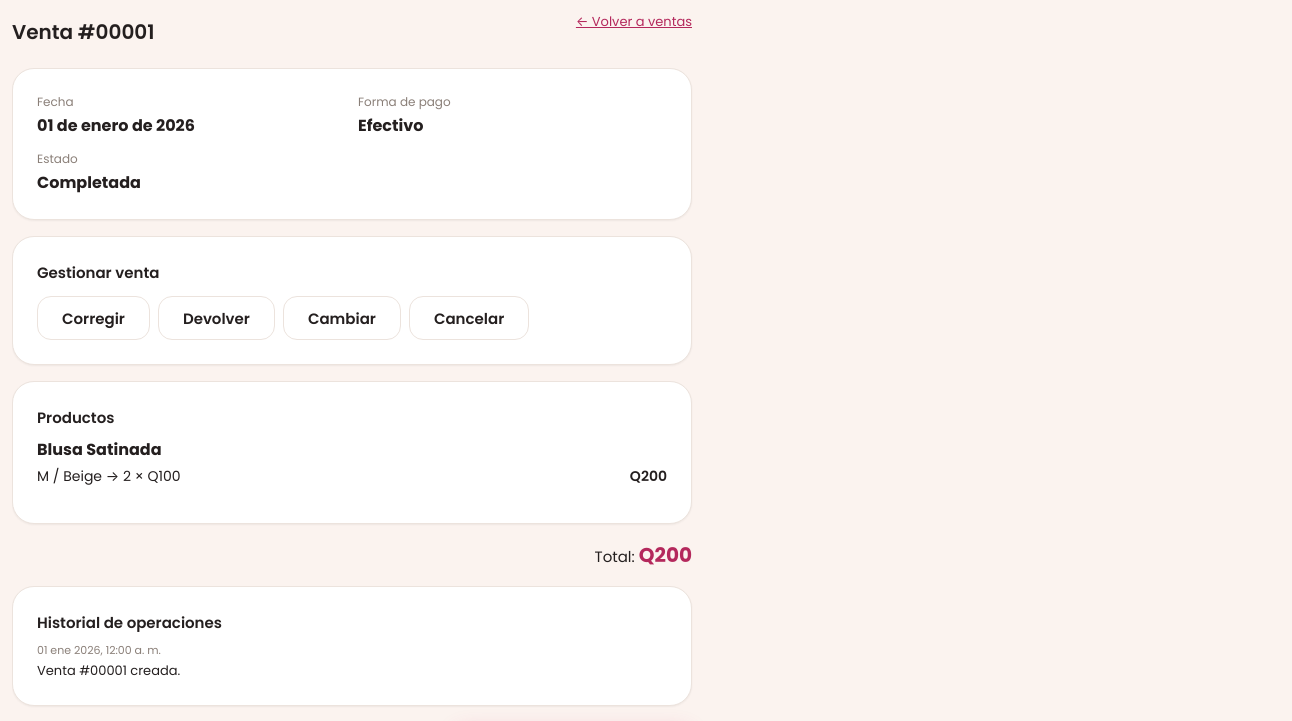
Test case: SaleDetailPage — gestión posventa › registra una devolución parcial
Click the button "Devolver": (216, 318) [158,296,275,340]
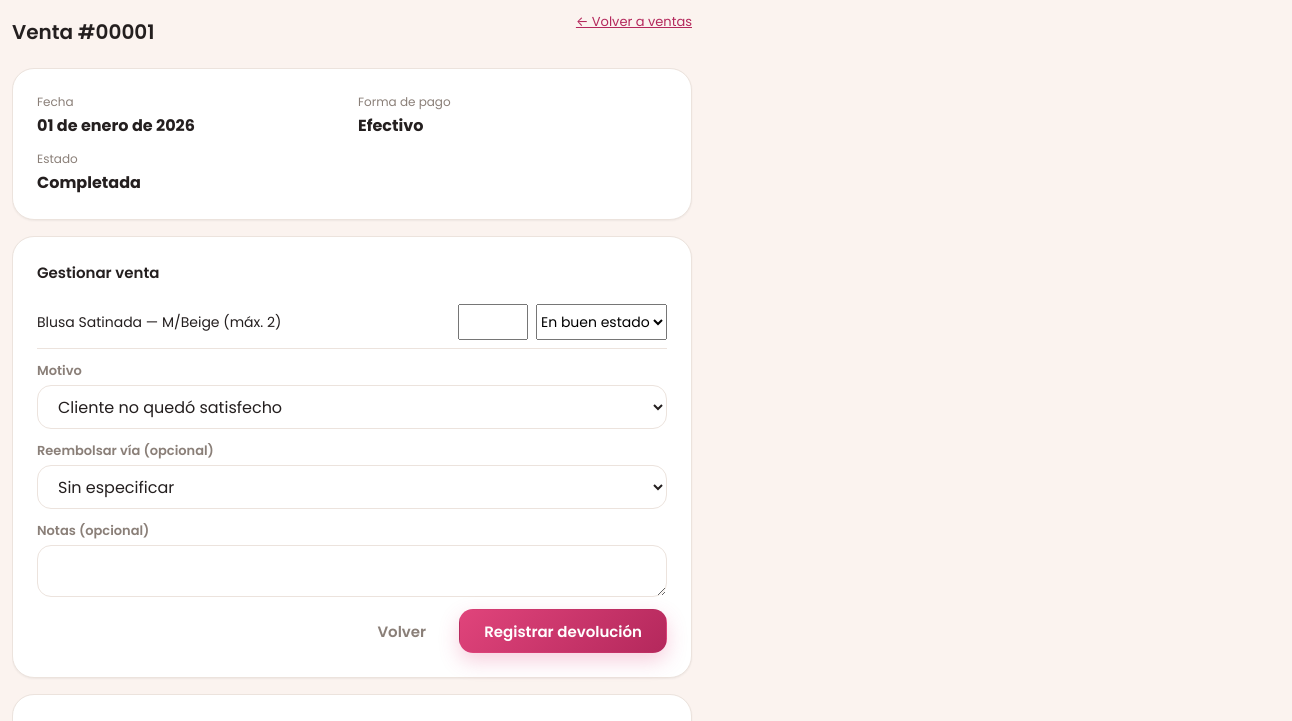
In the number field named "Cantidad a devolver": (493, 322) [458,304,528,340], type "1"
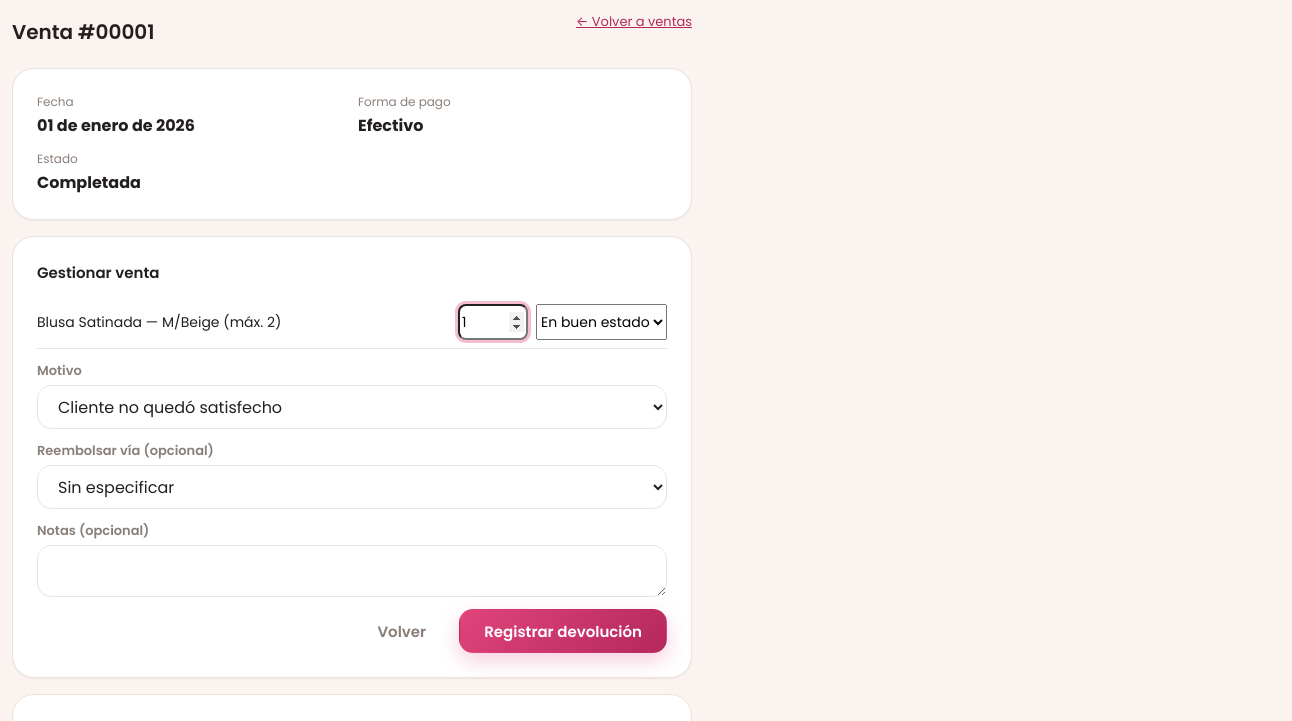
Click the button "Registrar devolución": (563, 631) [459,609,667,653]
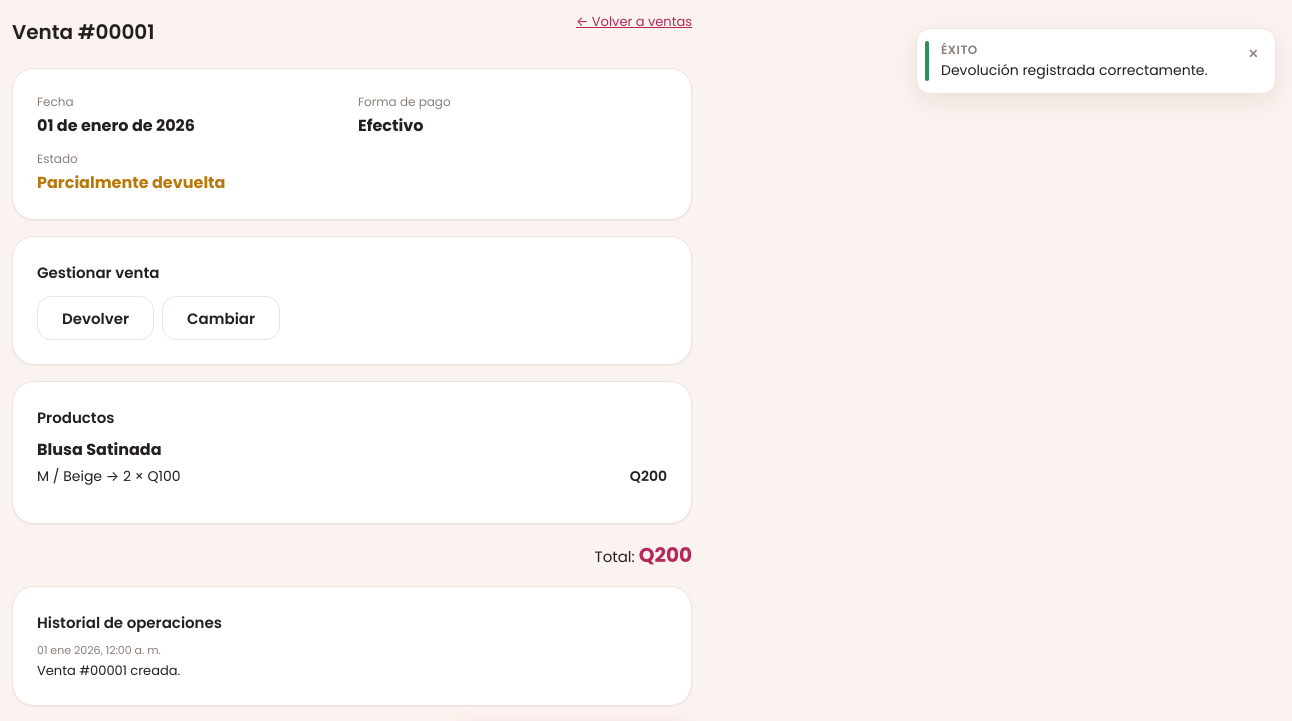
Expected: the text "Devolución registrada correctamente." is shown, [941,61,1231,81]
